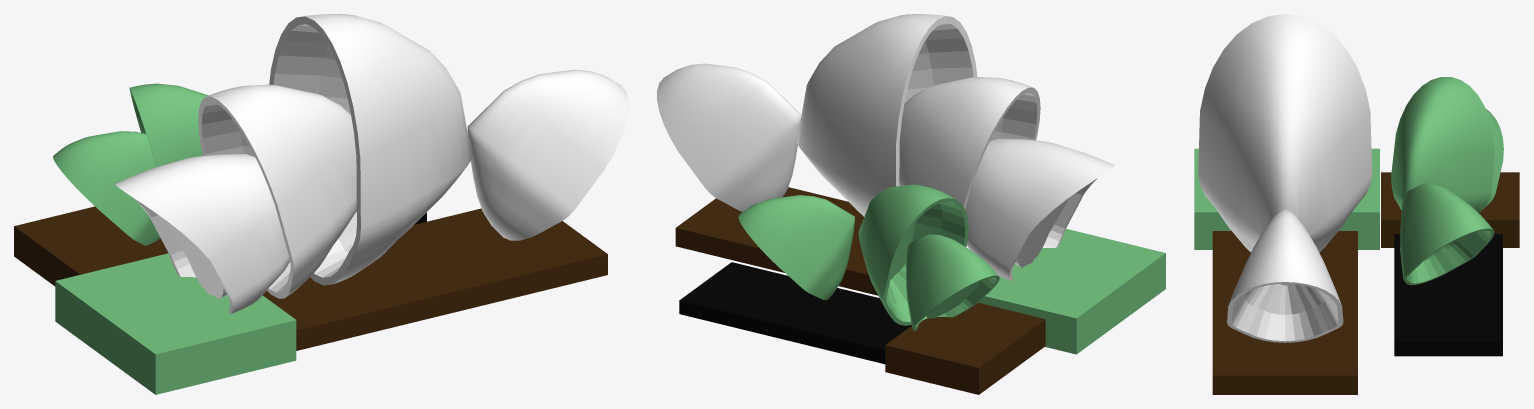
File: Sydney.FBX
3 renders of one model, left to right at view 1: azimuth 30°, elevation 25°; view 2: azimuth 150°, elevation 25°; view 3: azimuth 270°, elevation 25°, orthographic. The views are drawn at different scales.
Parts seen in each view (by area): view 1: Sphere003, Box001, Box002, Sphere004, Sphere002, Sphere001, Box004, Sphere006, Sphere007; view 2: Sphere003, Sphere004, Box002, Sphere001, Box003, Sphere002, Box004, Sphere005, Sphere007, Sphere006, Box001; view 3: Sphere003, Box001, Sphere004, Sphere007, Box003, Sphere005, Box002, Box004, Sphere006.
Part boxes in pixels (left/top/right/bottom): Sphere003: left=269, top=14, right=471, bottom=285; Box001: left=263, top=208, right=607, bottom=350; Box002: left=55, top=253, right=296, bottom=394; Sphere004: left=467, top=69, right=628, bottom=240; Sphere002: left=198, top=84, right=356, bottom=298; Sphere001: left=115, top=154, right=289, bottom=313; Box004: left=14, top=206, right=168, bottom=286; Sphere006: left=53, top=131, right=160, bottom=245; Sphere007: left=129, top=83, right=208, bottom=166; Sphere003: left=796, top=14, right=977, bottom=216; Sphere004: left=657, top=63, right=800, bottom=211; Box002: left=978, top=229, right=1165, bottom=354; Sphere001: left=965, top=138, right=1114, bottom=280; Box003: left=679, top=262, right=911, bottom=364; Sphere002: left=899, top=77, right=1040, bottom=249; Box004: left=885, top=302, right=1045, bottom=394; Sphere005: left=738, top=195, right=854, bottom=300; Sphere007: left=858, top=184, right=968, bottom=325; Sphere006: left=906, top=234, right=999, bottom=330; Box001: left=675, top=187, right=877, bottom=295; Sphere003: left=1198, top=14, right=1372, bottom=252; Box001: left=1212, top=231, right=1357, bottom=394; Sphere004: left=1227, top=209, right=1343, bottom=342; Sphere007: left=1391, top=77, right=1494, bottom=212; Box003: left=1394, top=234, right=1502, bottom=356; Sphere005: left=1400, top=183, right=1494, bottom=285; Box002: left=1194, top=148, right=1379, bottom=249; Box004: left=1381, top=172, right=1519, bottom=247; Sphere006: left=1480, top=108, right=1503, bottom=211.
Size of the model in its own units: 414 by 221 by 245.
